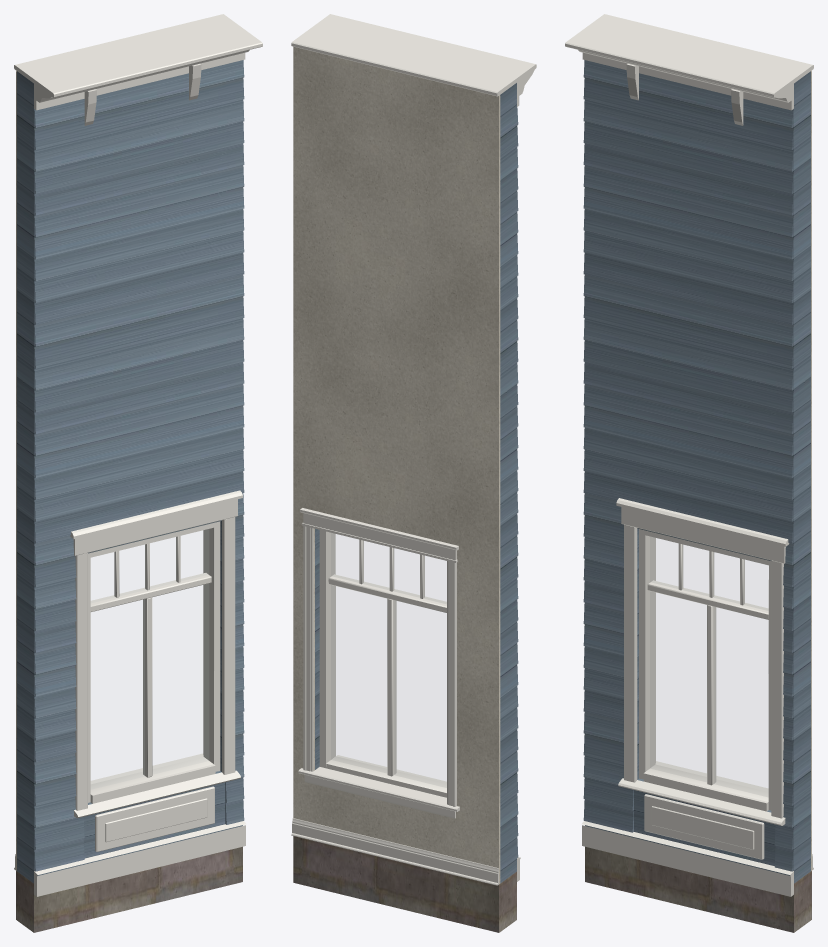
The model's file is front_display_l.glb.
The picture shows the model from 3 angles, left to right: view 1: azimuth 30°, elevation 25°; view 2: azimuth 150°, elevation 25°; view 3: azimuth 330°, elevation 25°; orthographic projection.
Visible parts, largest first — view 1: front_display_l_siding, front_display_l_trim, front_display_l_glass, front_display_l_frame, front_display_l_stone, front_display_l_plaster, molduras; view 2: front_display_l_plaster, front_display_l_glass, front_display_l_siding, molduras, front_display_l_stone, front_display_l_trim, front_display_l_frame; view 3: front_display_l_siding, front_display_l_trim, front_display_l_glass, front_display_l_frame, front_display_l_stone, front_display_l_plaster, molduras.
Part boxes in pixels (bbox=[...]): front_display_l_siding: bbox=[17, 60, 244, 883]; front_display_l_trim: bbox=[14, 14, 262, 896]; front_display_l_glass: bbox=[91, 529, 208, 788]; front_display_l_frame: bbox=[88, 521, 220, 802]; front_display_l_stone: bbox=[16, 846, 242, 932]; front_display_l_plaster: bbox=[16, 70, 16, 870]; molduras: bbox=[14, 530, 203, 870]; front_display_l_plaster: bbox=[293, 46, 500, 884]; front_display_l_glass: bbox=[331, 533, 446, 787]; front_display_l_siding: bbox=[315, 83, 518, 883]; molduras: bbox=[291, 508, 498, 885]; front_display_l_stone: bbox=[293, 836, 516, 932]; front_display_l_trim: bbox=[291, 14, 536, 881]; front_display_l_frame: bbox=[319, 530, 446, 797]; front_display_l_siding: bbox=[583, 60, 810, 883]; front_display_l_trim: bbox=[565, 14, 813, 896]; front_display_l_glass: bbox=[650, 537, 768, 796]; front_display_l_frame: bbox=[639, 529, 771, 810]; front_display_l_stone: bbox=[585, 846, 811, 932]; front_display_l_plaster: bbox=[811, 70, 811, 870]; molduras: bbox=[655, 538, 813, 870].
Bounding box in the file's own units: 2 × 7.81 × 0.68.
Materials: 6 (3 with a texture image).
